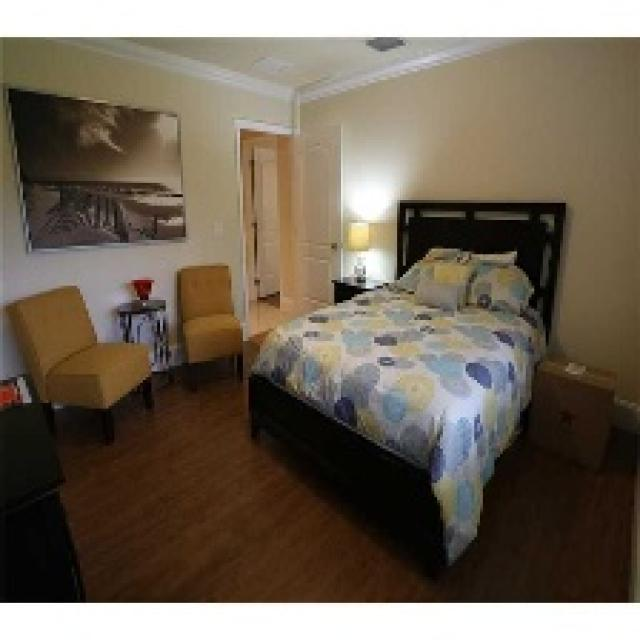Bed: (245, 197, 566, 577)
